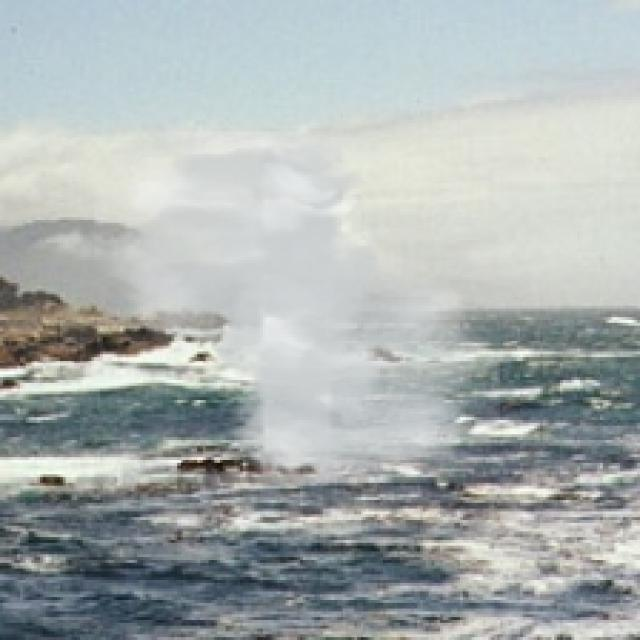Smoke: (94, 131, 500, 483)
